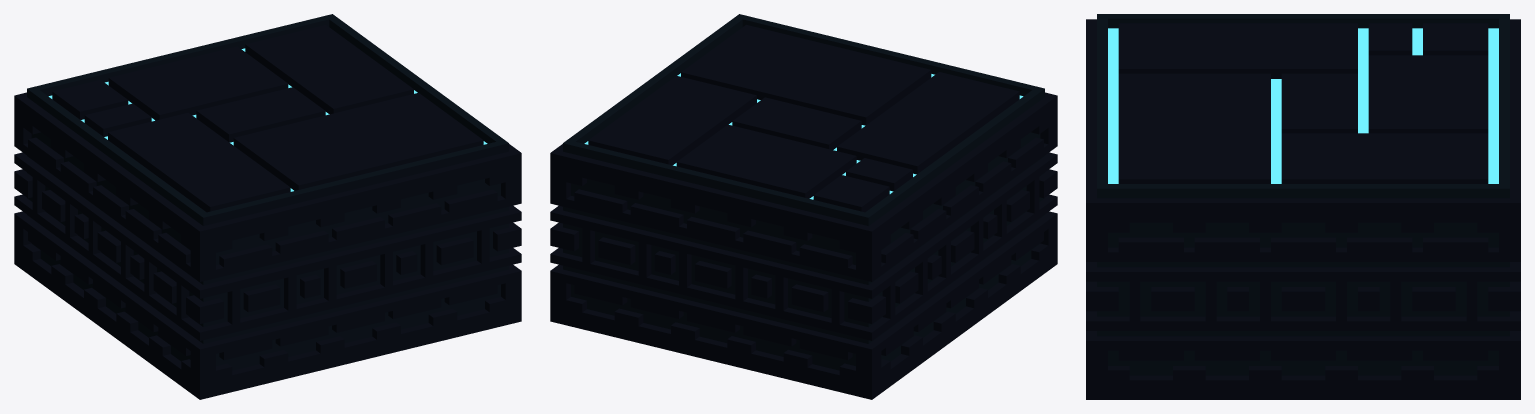
Rendered from Block_1.glb.
3 views of the same model, side by side, from view 1: azimuth 30°, elevation 25°; view 2: azimuth 150°, elevation 25°; view 3: azimuth 270°, elevation 25° (orthographic). The views are drawn at different scales.
Visible parts, largest first — view 1: Block_1; view 2: Block_1; view 3: Block_1.
Part boxes in pixels (box(x1,y1,x2,y2)): Block_1: box(14, 14, 521, 399); Block_1: box(550, 14, 1057, 399); Block_1: box(1086, 14, 1520, 399).
Bounding box in the file's own units: 1 × 0.525 × 1.
